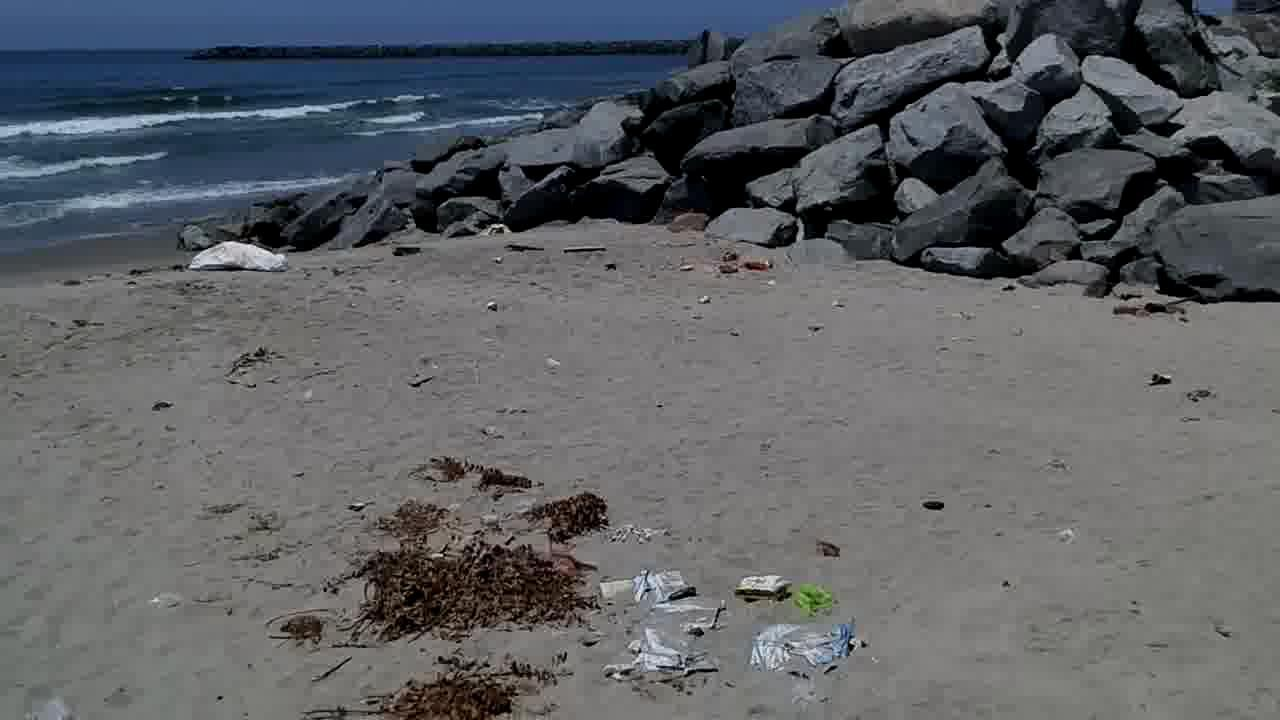obj: (266, 450, 612, 653), (304, 645, 578, 719), (580, 566, 729, 684), (746, 617, 859, 680), (188, 242, 290, 274), (734, 574, 794, 608), (601, 522, 672, 547)
sand/background: (1, 0, 1279, 308)
